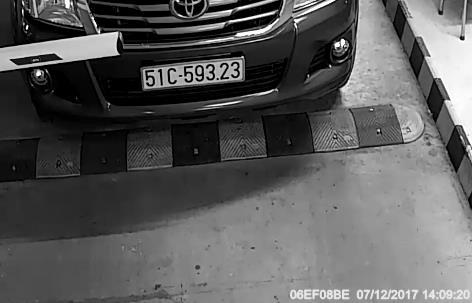License-plate: (135, 56, 266, 95)
